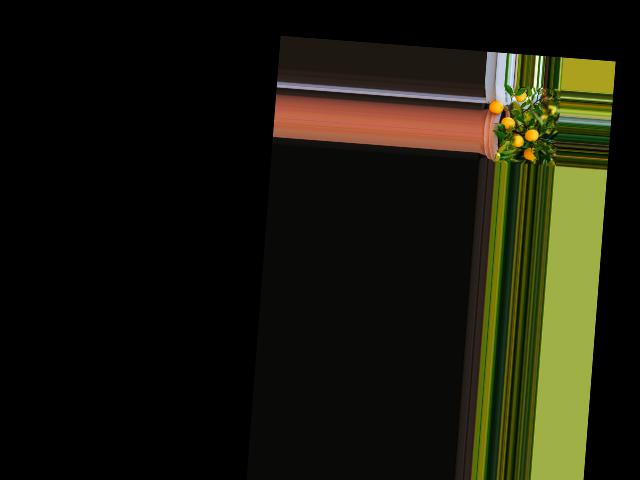lemon: (512, 90, 528, 102)
